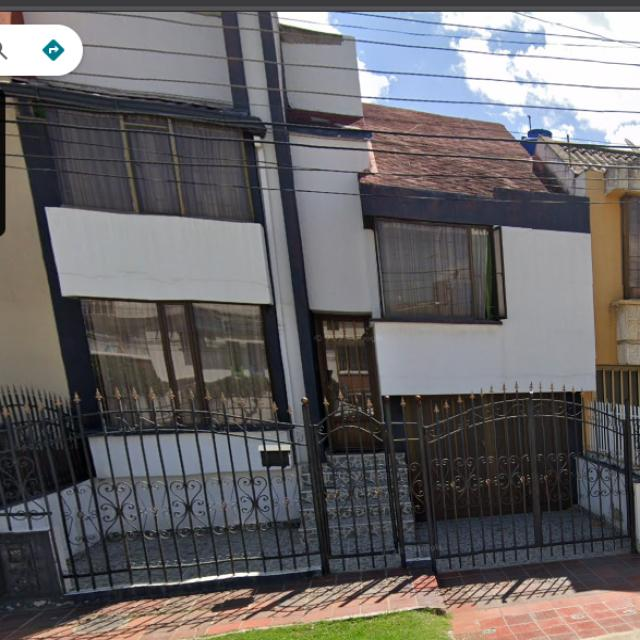Fachada: (7, 12, 609, 590), (534, 137, 639, 537)
